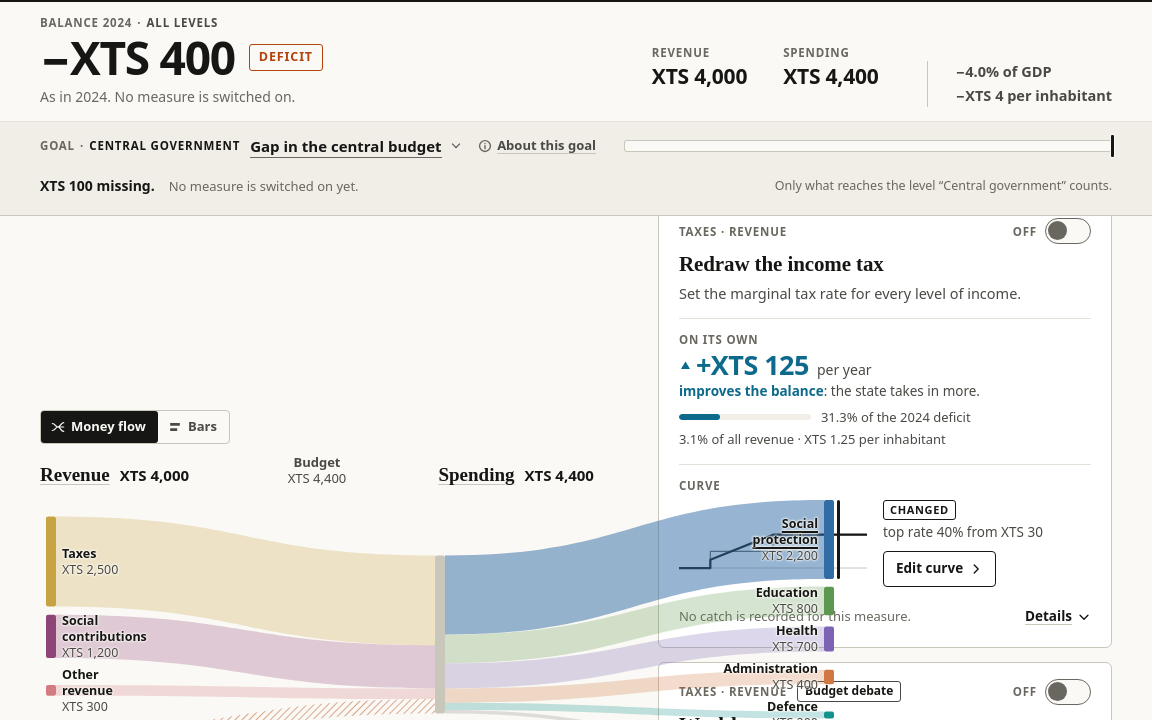
the curve on the card › shows a preview against today's curve, says whether it differs, and opens the editor
(page scrolled)
Click the button "Edit curve" at (940, 569), box top-left (883, 551), bottom-right (996, 587)
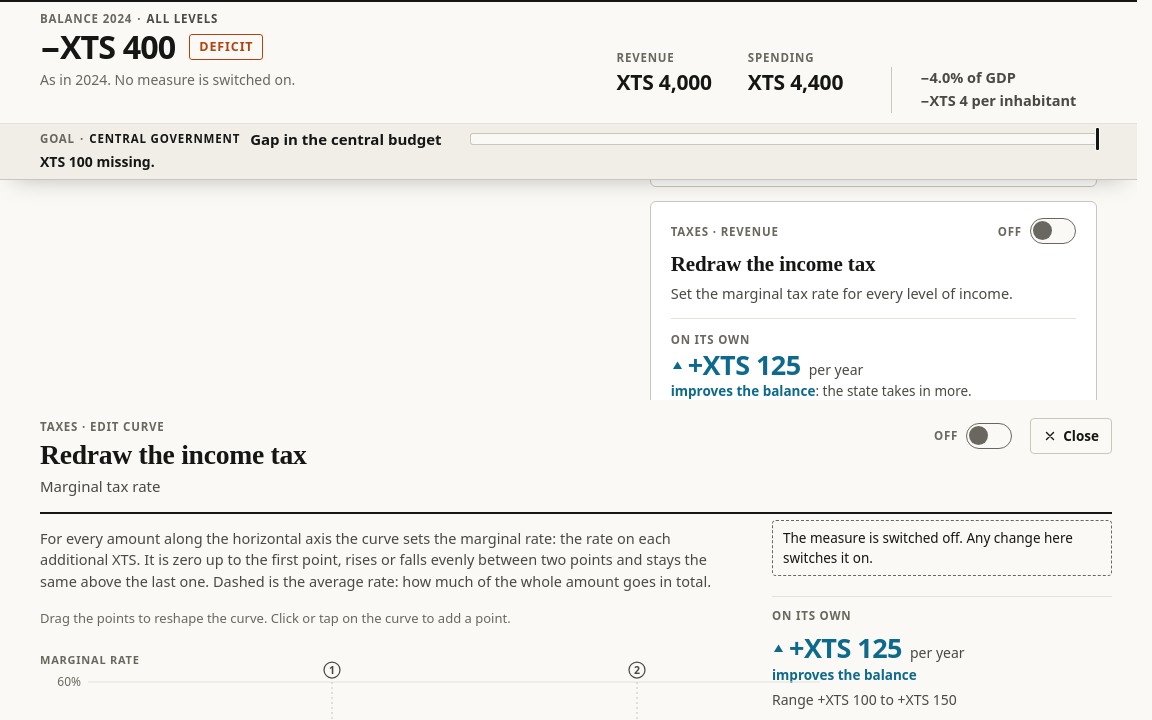
Expected: the heading with class "sheet__title" reads "Redraw the income tax", top-left (40, 439), bottom-right (306, 470)
